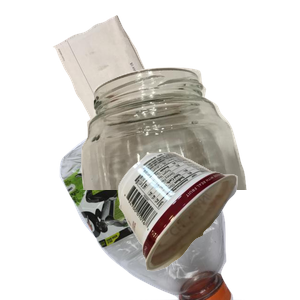glass: (74, 65, 300, 245)
paper: (51, 13, 230, 186)
plastic: (57, 120, 293, 300)
trash: (116, 149, 300, 300)
